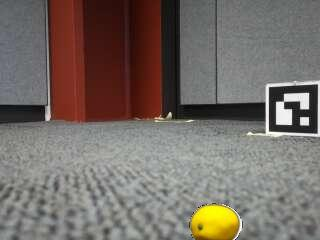lemon: (191, 205, 239, 240)
